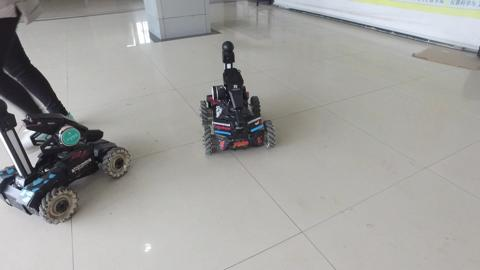chariot: (1, 97, 133, 226), (195, 38, 279, 160)
